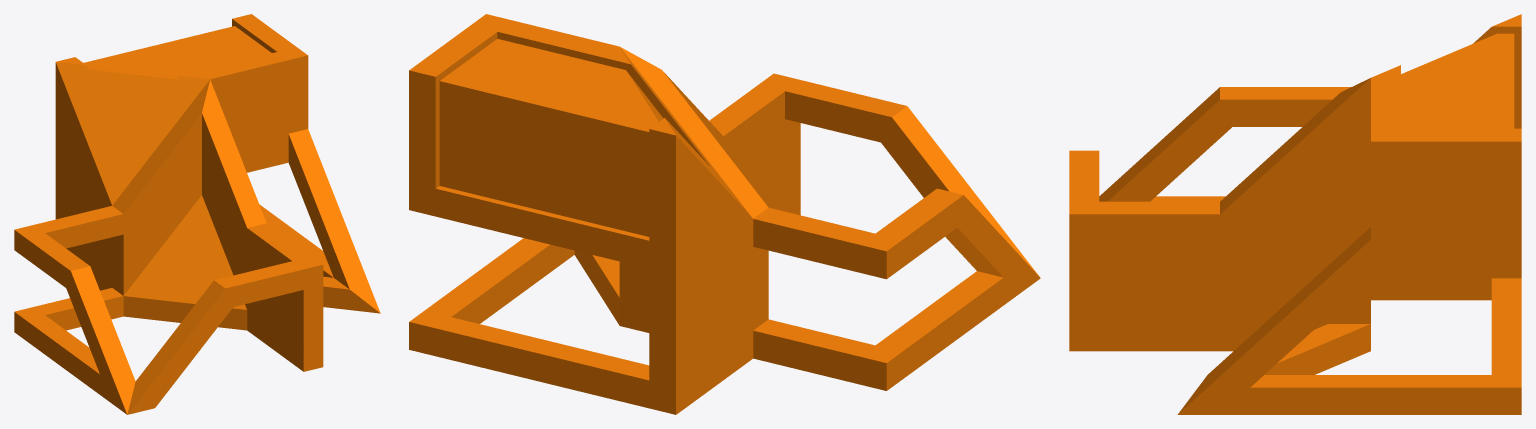
Rendered from MODELO.obj.
3 renders of one model, left to right at view 1: azimuth 30°, elevation 25°; view 2: azimuth 150°, elevation 25°; view 3: azimuth 270°, elevation 25°, orthographic. The views are drawn at different scales.
Parts seen in each view (by area): view 1: DISCONTINUIDAD_FINAL; view 2: DISCONTINUIDAD_FINAL; view 3: DISCONTINUIDAD_FINAL.
Part boxes in pixels (x1,y1,x2,y2): DISCONTINUIDAD_FINAL: (14,14,380,414); DISCONTINUIDAD_FINAL: (409,14,1040,414); DISCONTINUIDAD_FINAL: (1069,14,1521,414).
Bounding box in the file's own units: 15 × 10 × 15.
